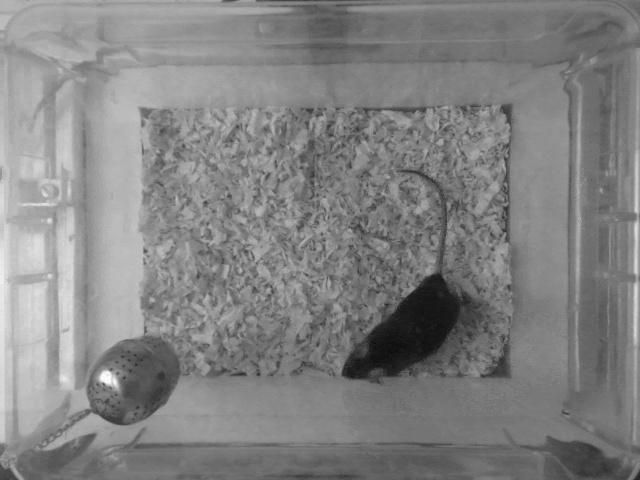mice: (338, 166, 459, 387)
